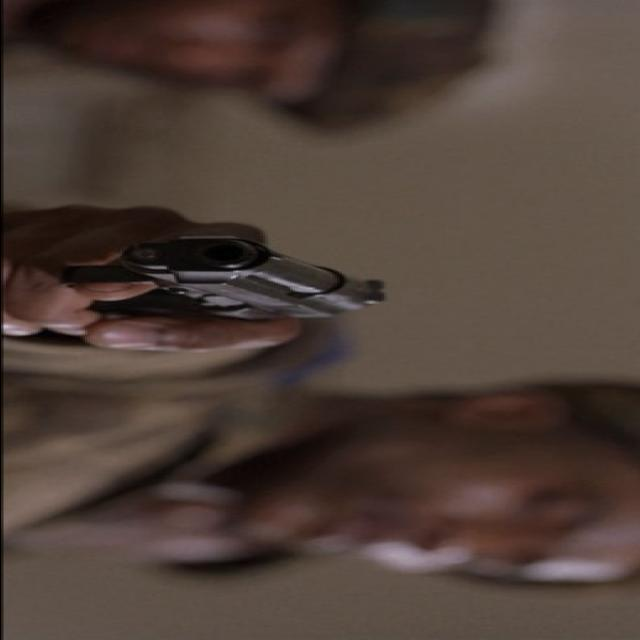weapons: (26, 199, 422, 349)
